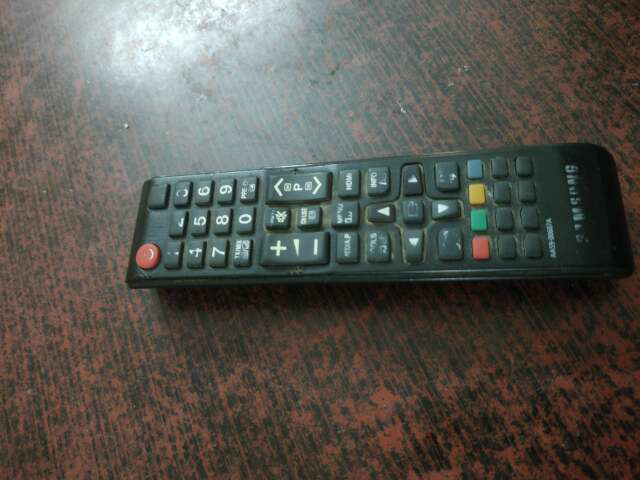remote: (121, 138, 639, 296)
